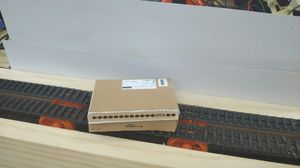box2: (86, 78, 178, 133)
